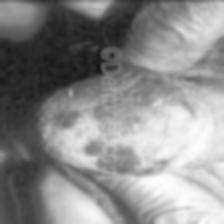Non-Cancerous Skin Condition: (47, 86, 175, 176)
